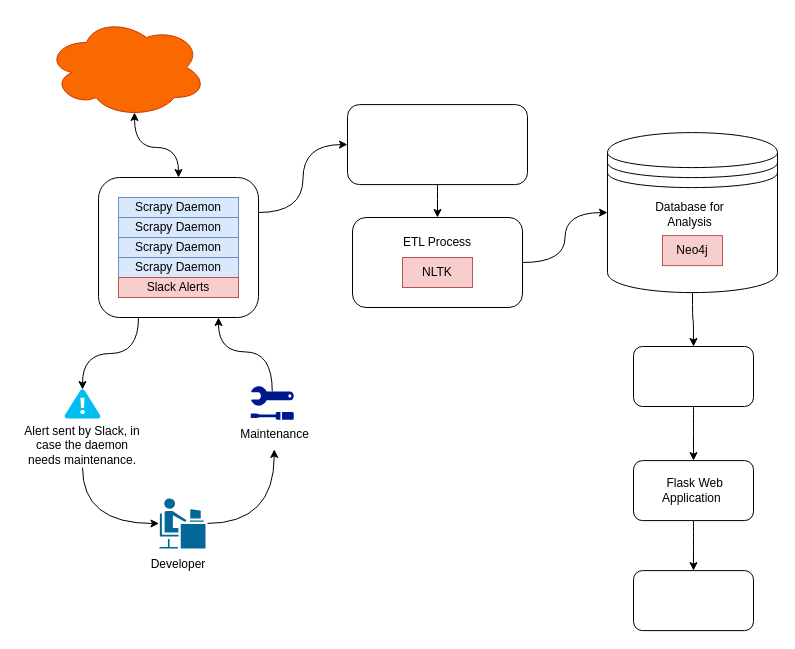
This 795x649 diagram has some shape labels left out. Here are the shapes that lost their labels. From the top down, the centre of each, then its label:
the point at 126,67: Job Websites
the point at 437,144: Raw Job Data
the point at 693,376: Analytics Engine
the point at 693,600: Career Insights UI
